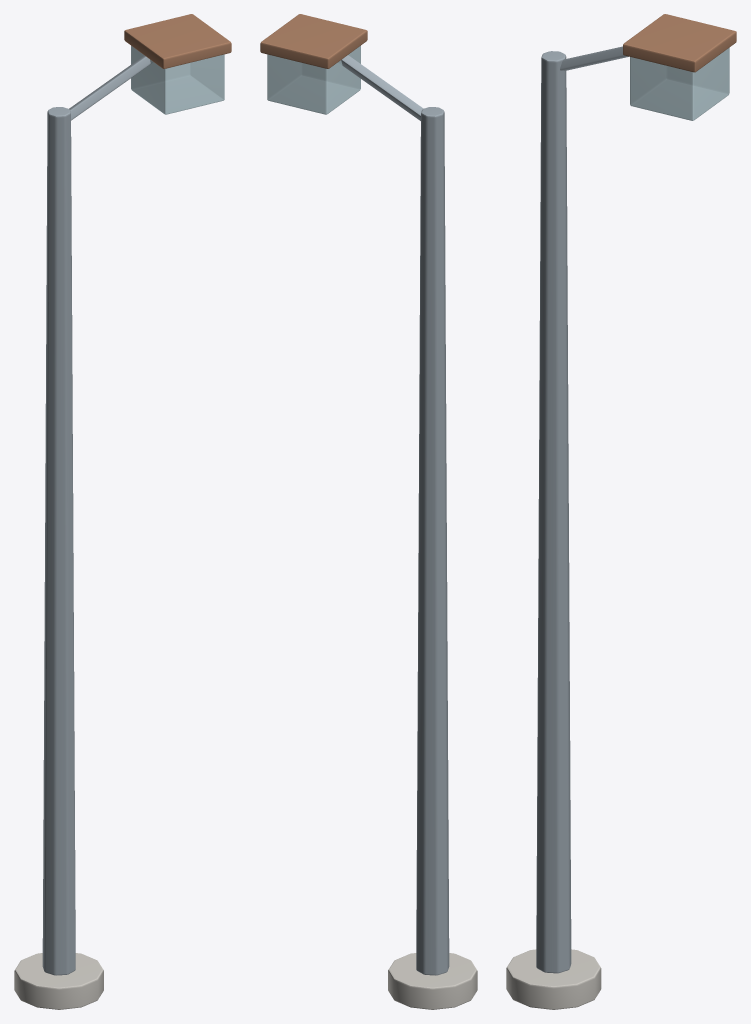
Rendered from street_lamp.glb.
3 views of the same model, side by side, from view 1: azimuth 30°, elevation 25°; view 2: azimuth 150°, elevation 25°; view 3: azimuth 330°, elevation 25° (orthographic). The views are drawn at different scales.
Parts seen in each view (by area): view 1: street_lamp; view 2: street_lamp; view 3: street_lamp.
Part boxes in pixels (x1=…): street_lamp: x1=14, y1=14, x2=231, y2=1009; street_lamp: x1=260, y1=14, x2=477, y2=1009; street_lamp: x1=506, y1=14, x2=736, y2=1009.
Size of the model in its own units: 0.89 by 4.11 by 0.36.
